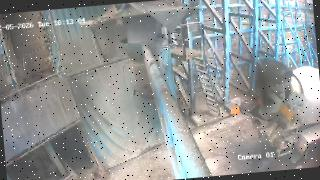cement_mixer_truck: (235, 64, 320, 173)
swing_chute: (120, 33, 172, 102)
